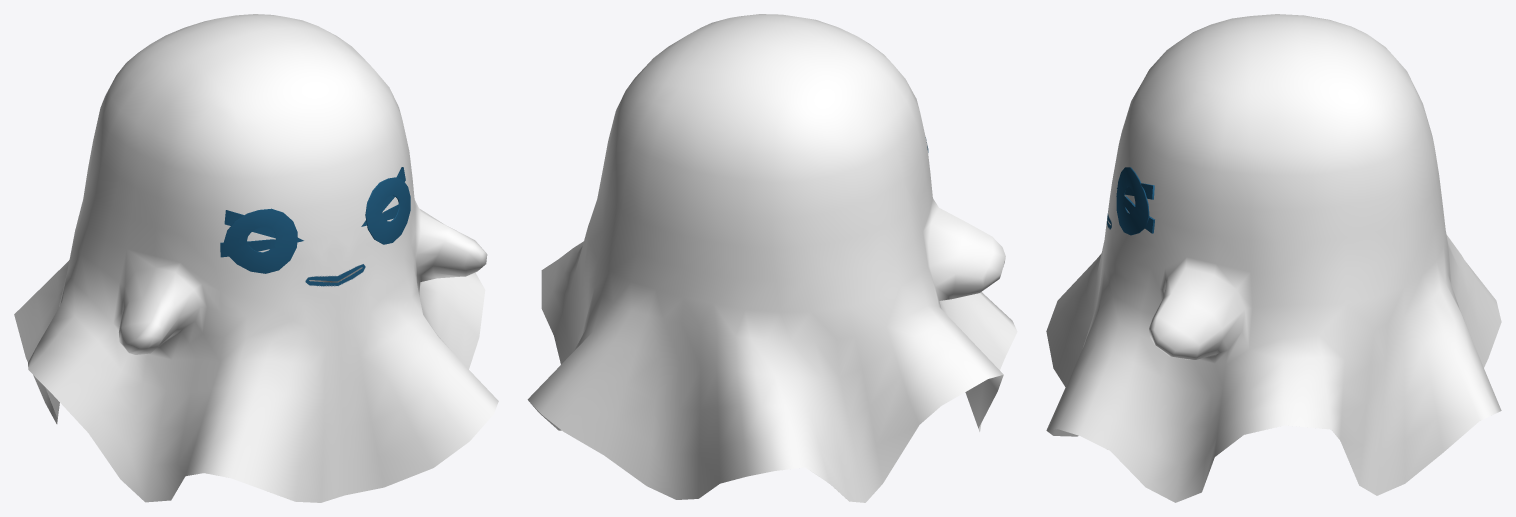
The model's file is Ghost_01.fbx.
The picture shows the model from 3 angles, left to right: view 1: azimuth 30°, elevation 25°; view 2: azimuth 150°, elevation 25°; view 3: azimuth 270°, elevation 25°; orthographic projection.
Parts seen in each view (by area): view 1: Ghost_01; view 2: Ghost_01; view 3: Ghost_01.
Part boxes in pixels (x1,y1,x2,y2): Ghost_01: [14, 14, 498, 502]; Ghost_01: [527, 14, 1017, 502]; Ghost_01: [1046, 14, 1501, 502].
Bounding box in the file's own units: 112 × 95.91 × 100.
